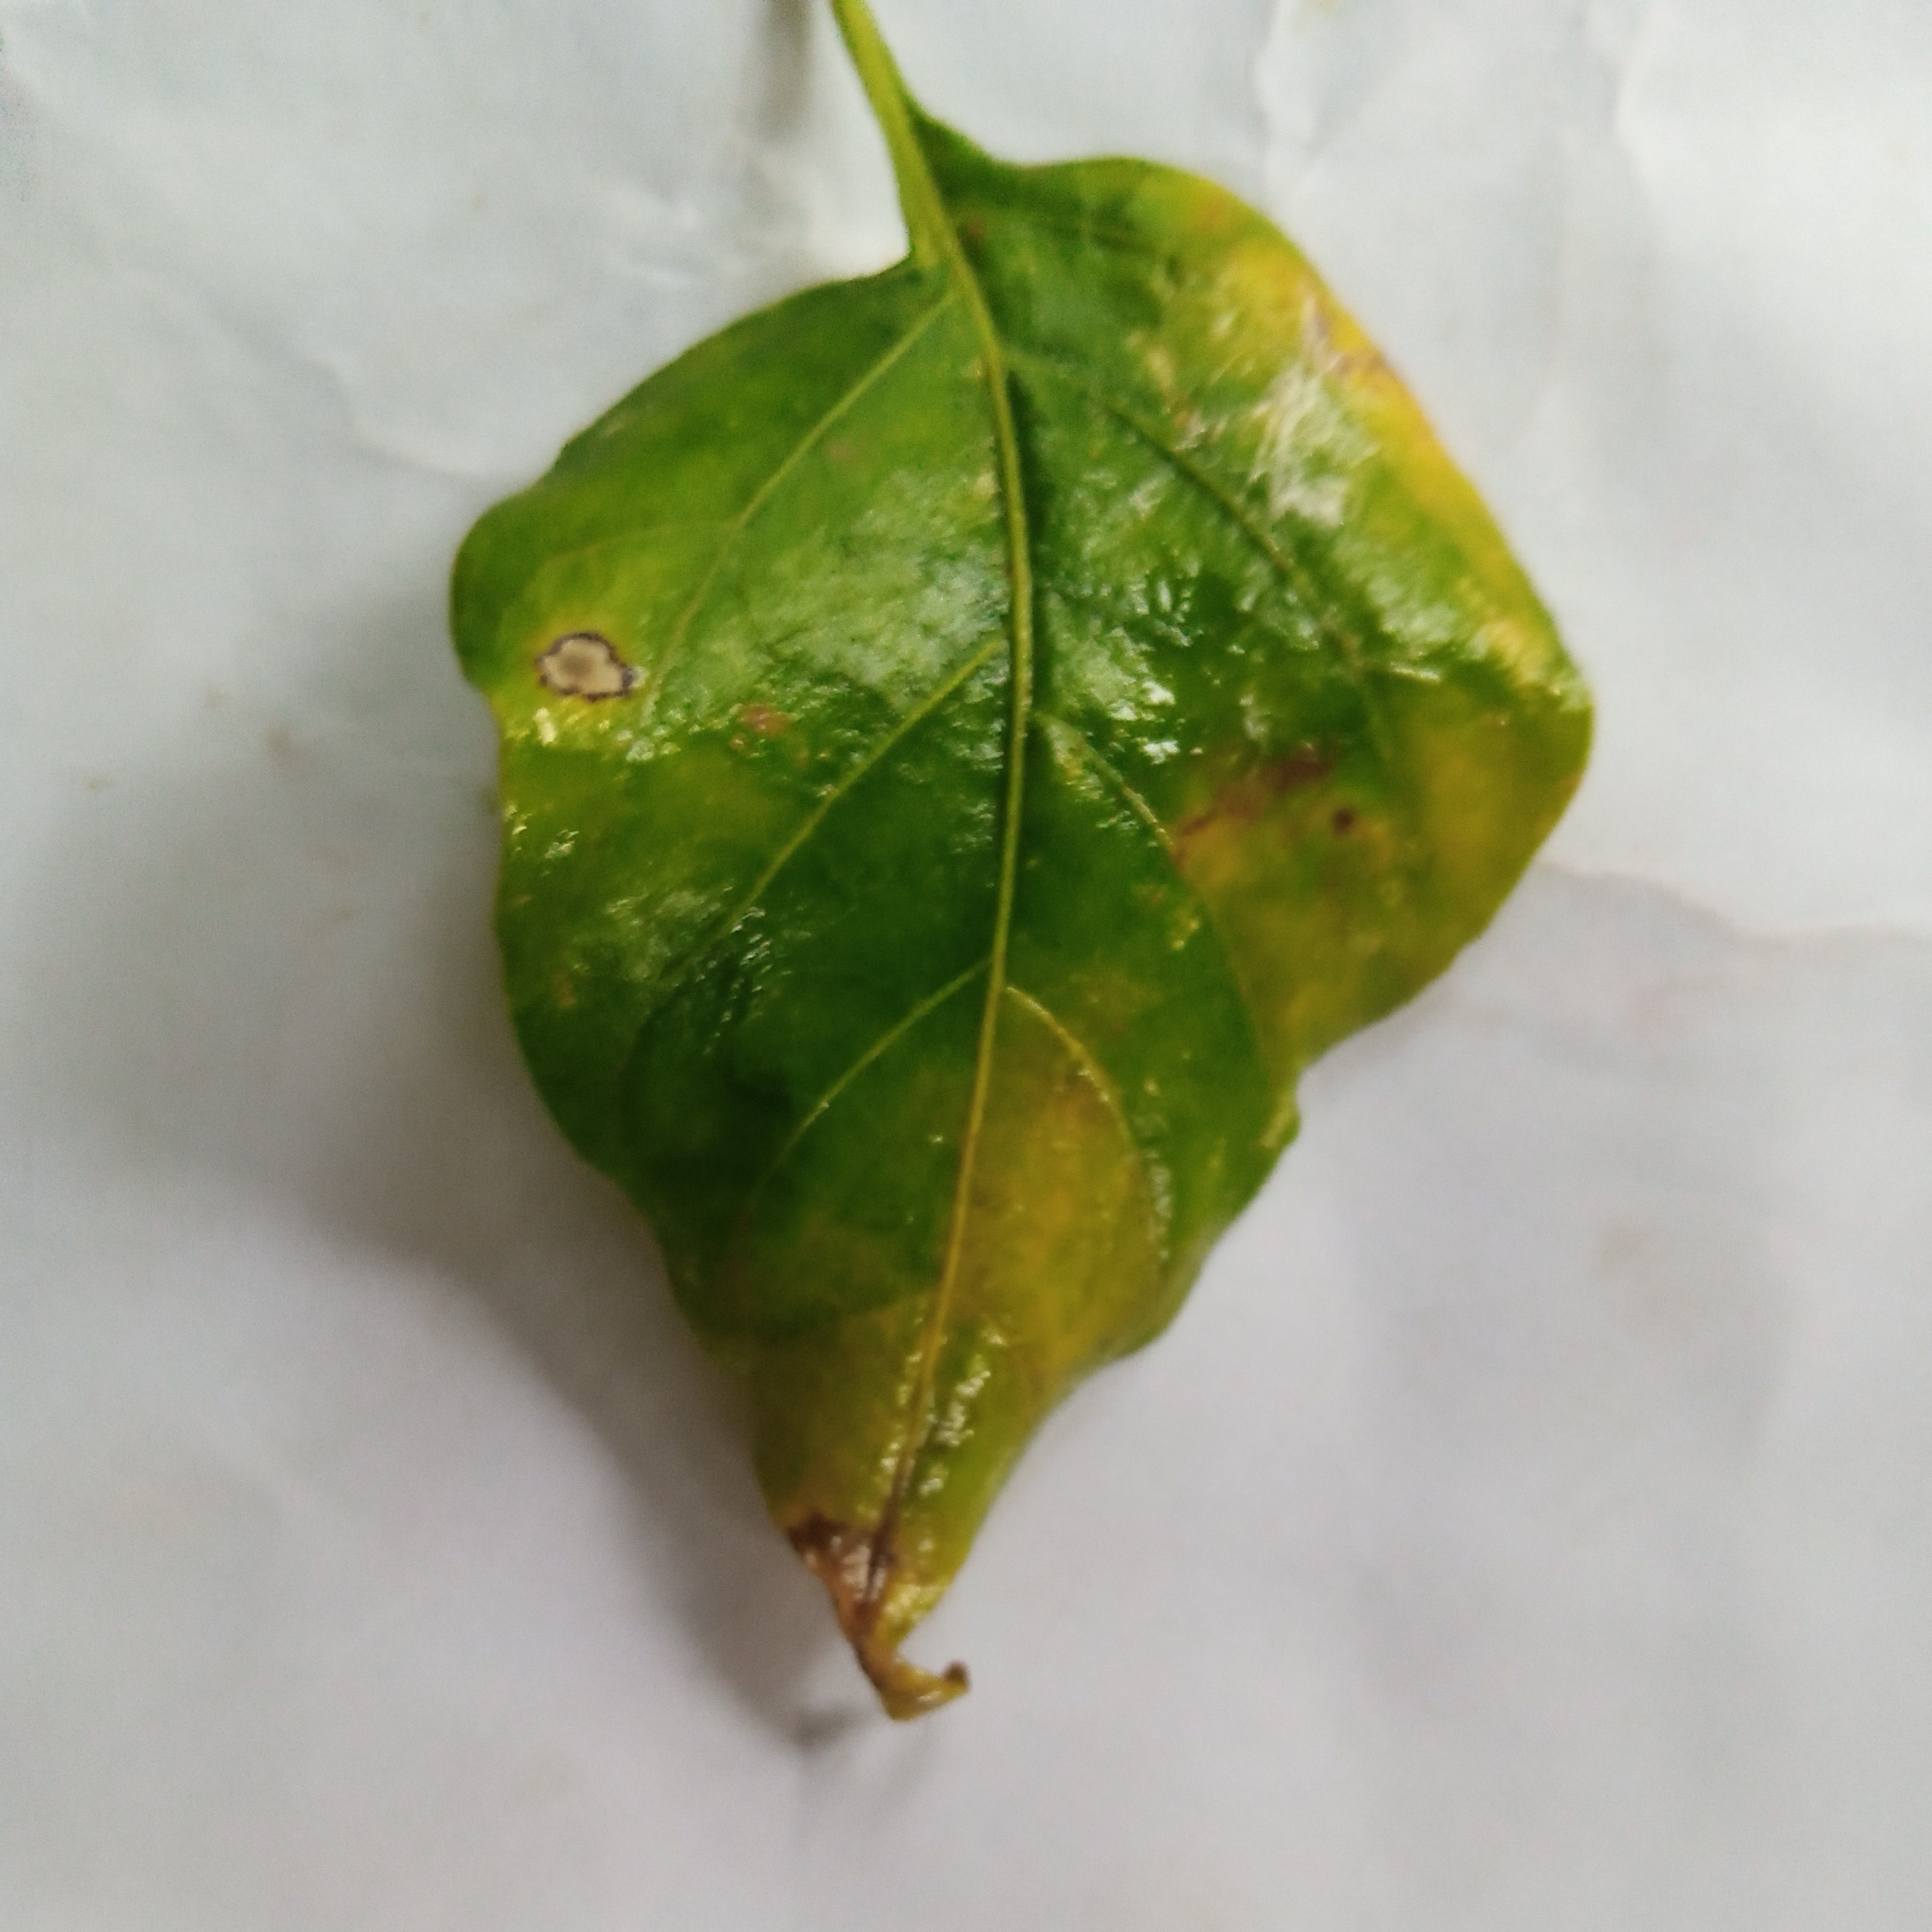Leaf: (301, 83, 1674, 1813)
